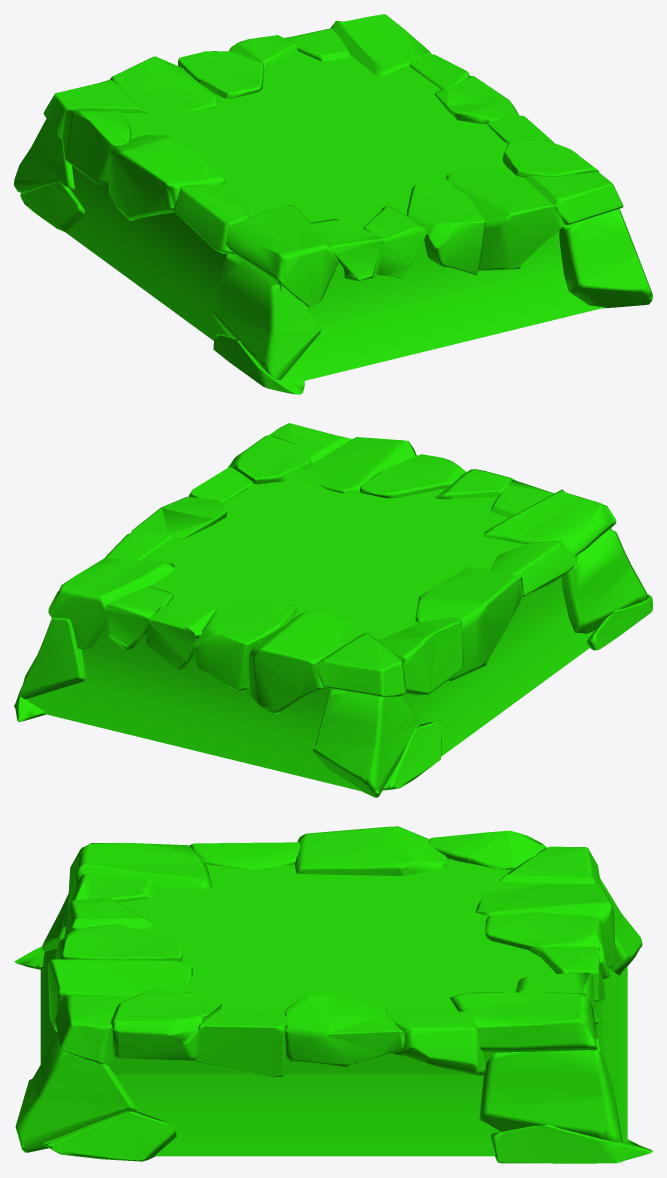
Rendered from Rock_4.fbx.
The picture shows the model from 3 angles, top to bottom: view 1: azimuth 30°, elevation 25°; view 2: azimuth 150°, elevation 25°; view 3: azimuth 270°, elevation 25°; orthographic projection. The views are drawn at different scales.
Parts seen in each view (by area): view 1: Rock_4; view 2: Rock_4; view 3: Rock_4.
Part boxes in pixels (bbox=[...]): Rock_4: bbox=[14, 14, 652, 394]; Rock_4: bbox=[14, 423, 652, 797]; Rock_4: bbox=[14, 826, 652, 1163].
Bounding box in the file's own units: 994 × 297 × 1270.
